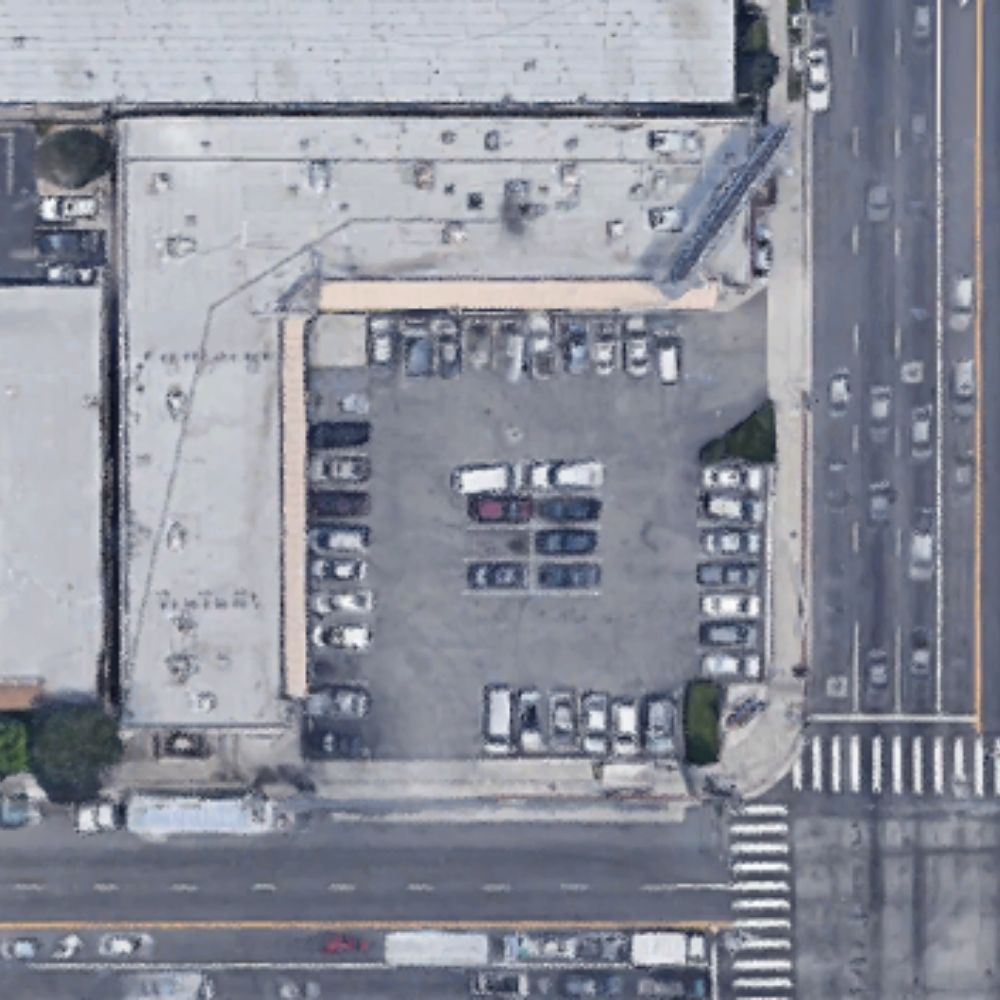parking: (305, 310, 770, 755)
